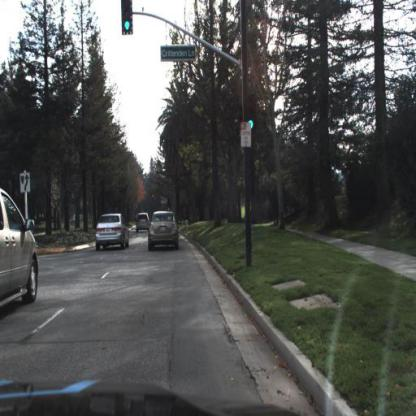car: (0, 183, 39, 331), (94, 212, 131, 254), (148, 209, 179, 251), (135, 210, 149, 234)
trafficLight: (247, 94, 256, 132), (121, 0, 131, 34)
